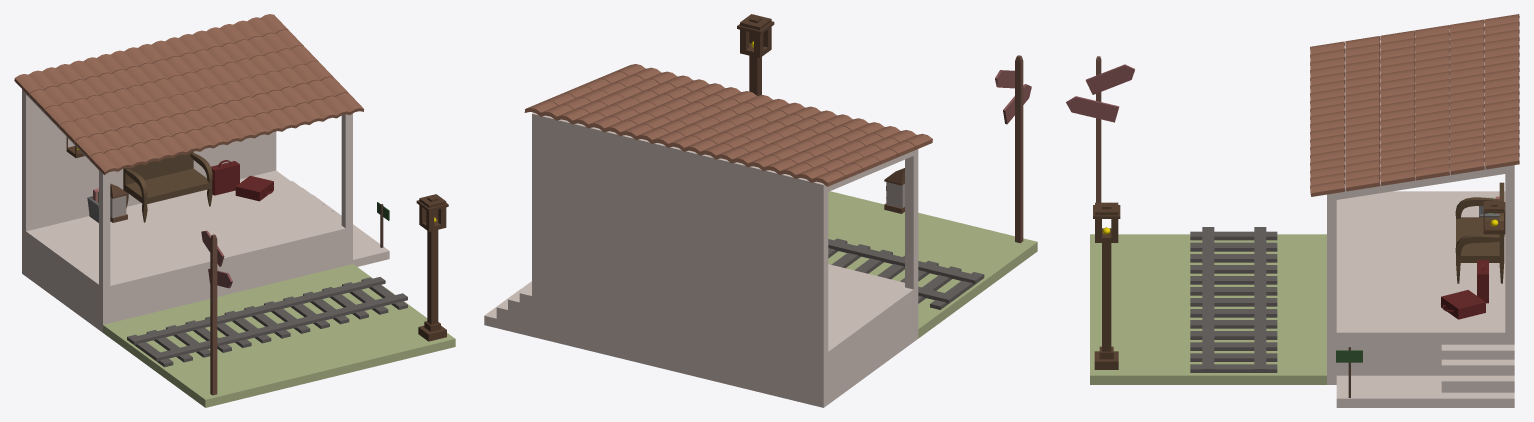
File: Train_Station_Test_2 Hours.fbx
3 renders of one model, left to right at view 1: azimuth 30°, elevation 25°; view 2: azimuth 150°, elevation 25°; view 3: azimuth 270°, elevation 25°, orthographic. The views are drawn at different scales.
Parts seen in each view (by area): view 1: pCube1, pCube146, pCube18, pCube20, pCube19, pCube147, pCube152, pCube153, pCube148; view 2: pCube1, pCube146, pCube18, pCube147, pCube19, pCube148; view 3: pCube1, pCube146, pCube18, pCube20, pCube19, pCube147, pCube153, pCube21, pCube152, pCube28.
Part boxes in pixels (left/top/right/bottom): pCube1: left=22, top=89, right=455, bottom=407; pCube146: left=14, top=14, right=363, bottom=174; pCube18: left=127, top=277, right=407, bottom=367; pCube20: left=123, top=151, right=212, bottom=222; pCube19: left=416, top=194, right=448, bottom=341; pCube147: left=201, top=230, right=232, bottom=395; pCube152: left=211, top=160, right=239, bottom=195; pCube153: left=235, top=175, right=273, bottom=201; pCube148: left=110, top=183, right=127, bottom=222; pCube1: left=484, top=112, right=1037, bottom=407; pCube146: left=524, top=64, right=932, bottom=186; pCube18: left=828, top=238, right=984, bottom=309; pCube147: left=995, top=55, right=1031, bottom=243; pCube19: left=737, top=14, right=774, bottom=95; pCube148: left=884, top=168, right=904, bottom=213; pCube1: left=1090, top=25, right=1514, bottom=407; pCube146: left=1310, top=14, right=1519, bottom=196; pCube18: left=1190, top=227, right=1277, bottom=372; pCube20: left=1455, top=182, right=1504, bottom=283; pCube19: left=1093, top=202, right=1120, bottom=369; pCube147: left=1066, top=56, right=1134, bottom=202; pCube153: left=1441, top=290, right=1485, bottom=319; pCube21: left=1483, top=201, right=1505, bottom=234; pCube152: left=1477, top=260, right=1488, bottom=303; pCube28: left=1336, top=347, right=1362, bottom=397.
Size of the model in its own units: 28.34 by 18.06 by 32.45.
